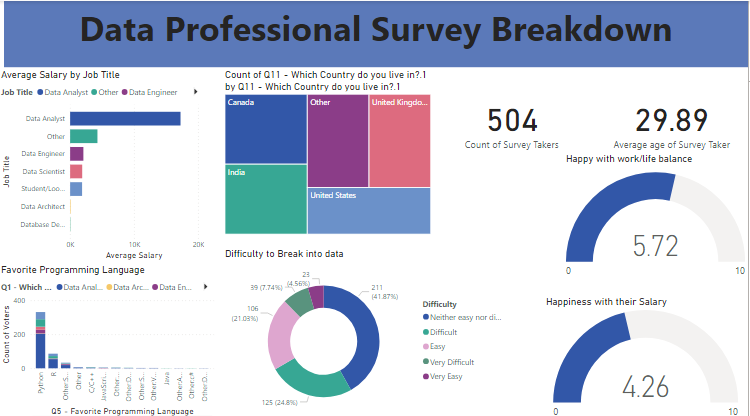

What the dashboard file says about the page in this screenshot:
{"tool":"powerbi","page":{"name":"Page 1","canvas":[1280,720],"ordinal":0},"visuals":[{"type":"textbox","box":[10,0,1270,113.3],"z":0},{"type":"card","fields":{"Values":["CountNonNull(Data Professional Survey.Unique ID)"]},"box":[745,116.7,261.7,180],"z":2},{"type":"card","fields":{"Values":["Avg(Data Professional Survey.Q10 - Current Age)"]},"box":[1018.3,116.7,261.7,180],"z":3},{"type":"barChart","title":"Average Salary by Job Title","fields":{"Category":["Data Professional Survey.Q1 - Which Title Best Fits your Current Role?.1"],"Y":["Sum(Data Professional Survey.Average Salary)"],"Series":["Data Professional Survey.Q1 - Which Title Best Fits your Current Role?.1"]},"box":[0,116.7,356.7,331.7],"z":4},{"type":"columnChart","title":"Favorite Programming Language","fields":{"Category":["Data Professional Survey.Q5 - Favorite Programming Language.1"],"Y":["CountNonNull(Data Professional Survey.Unique ID)"],"Series":["Data Professional Survey.Q1 - Which Title Best Fits your Current Role?.1"]},"box":[0,448.5,374,272.3],"z":5},{"type":"treemap","fields":{"Group":["Data Professional Survey.Q11 - Which Country do you live in?.1"],"Values":["Count(Data Professional Survey.Q11 - Which Country do you live in?.1)"]},"box":[383.1,116.2,361.3,286.9],"z":6},{"type":"gauge","title":"Happiness with their Salary","fields":{"Y":["Avg(Data Professional Survey.Q6 - How Happy are you in your Current Position with the following? (Salary))"],"MinValue":["Min(Data Professional Survey.Q6 - How Happy are you in your Current Position with the following? (Salary))"],"MaxValue":["Max(Data Professional Survey.Q6 - How Happy are you in your Current Position with the following? (Salary))"]},"box":[929.6,502.9,350.4,217.9],"z":7},{"type":"gauge","title":"Happy with work/life balance","fields":{"Y":["Avg(Data Professional Survey.Q6 - How Happy are you in your Current Position with the following? (Work/Life Balance))"],"MinValue":["Min(Data Professional Survey.Q6 - How Happy are you in your Current Position with the following? (Work/Life Balance))1"],"MaxValue":["Max(Data Professional Survey.Q6 - How Happy are you in your Current Position with the following? (Work/Life Balance))2"]},"box":[964.1,259.6,315.9,230.6],"z":8},{"type":"donutChart","title":"Difficulty to Break into data","fields":{"Category":["Data Professional Survey.Q7 - How difficult was it for you to break into Data?"],"Y":["CountNonNull(Data Professional Survey.Q7 - How difficult was it for you to break into Data?)"]},"box":[383.1,421.2,492,299.6],"z":9}]}

Visuals, with their boxes in screenshot pixels (x1, y1, x2, y2), scaled from the page's 1280x720 canvas onto the 750x416 screenshot:
textbox: box=[6, 0, 749, 65]
card - CountNonNull(Data Professional Survey.Unique ID): box=[437, 67, 590, 171]
card - Avg(Data Professional Survey.Q10 - Current Age): box=[597, 67, 749, 171]
"Average Salary by Job Title" barChart: box=[0, 67, 209, 259]
"Favorite Programming Language" columnChart: box=[0, 259, 219, 415]
treemap - Data Professional Survey.Q11 - Which Country do you live in?.1 x Count(Data Professional Survey.Q11 - Which Country do you live in?.1): box=[224, 67, 436, 233]
"Happiness with their Salary" gauge: box=[545, 291, 749, 415]
"Happy with work/life balance" gauge: box=[565, 150, 749, 283]
"Difficulty to Break into data" donutChart: box=[224, 243, 513, 415]
